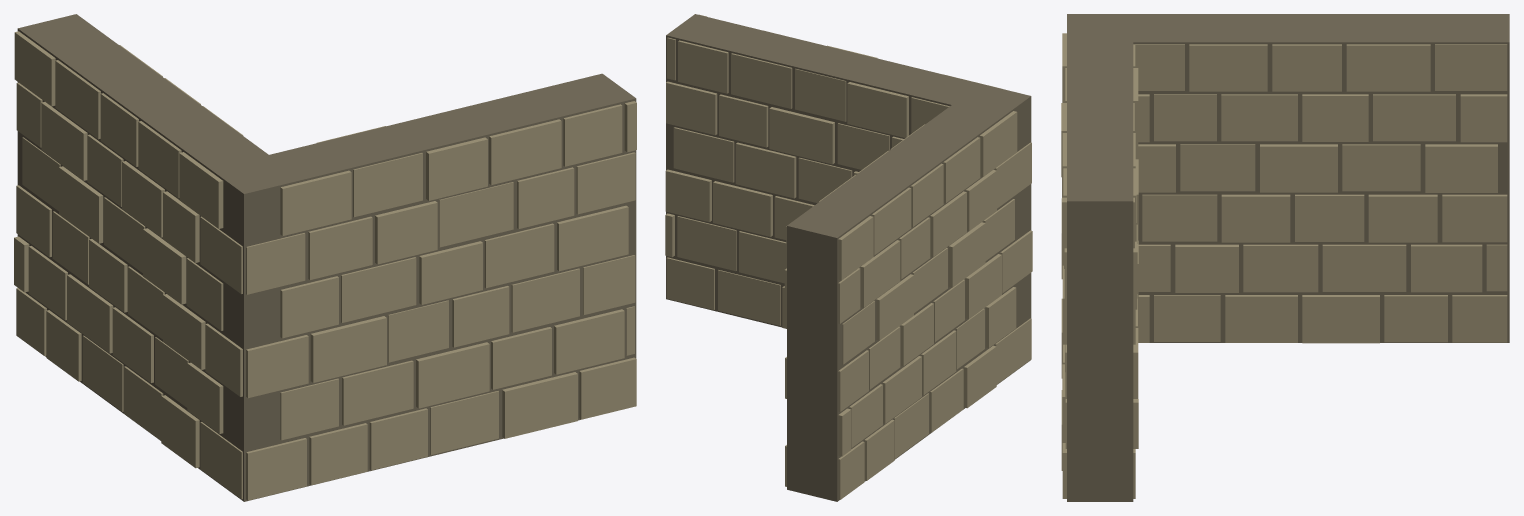
Rendered from wall_corner.glb.
3 views of the same model, side by side, from view 1: azimuth 30°, elevation 25°; view 2: azimuth 150°, elevation 25°; view 3: azimuth 270°, elevation 25° (orthographic). The views are drawn at different scales.
Visible parts, largest first — view 1: stone_temple, stone_temple_dark-col; view 2: stone_temple, stone_temple_dark-col; view 3: stone_temple, stone_temple_dark-col.
Part boxes in pixels (x1,y1,x2,y2): stone_temple: (14,31,636,500); stone_temple_dark-col: (17,14,636,501); stone_temple: (665,14,1032,499); stone_temple_dark-col: (666,14,1031,501); stone_temple: (1061,33,1507,498); stone_temple_dark-col: (1067,14,1509,501).
Bounding box in the file's own units: 4.05 × 3 × 4.05.
